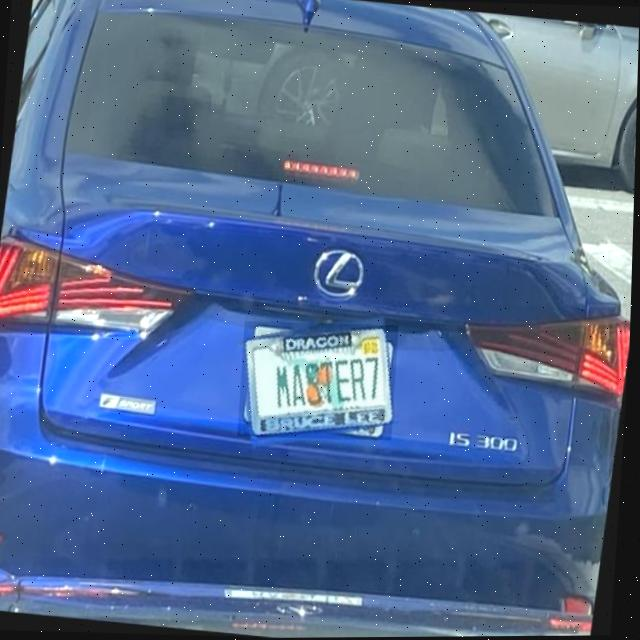LicensePlate: (246, 326, 394, 437)
